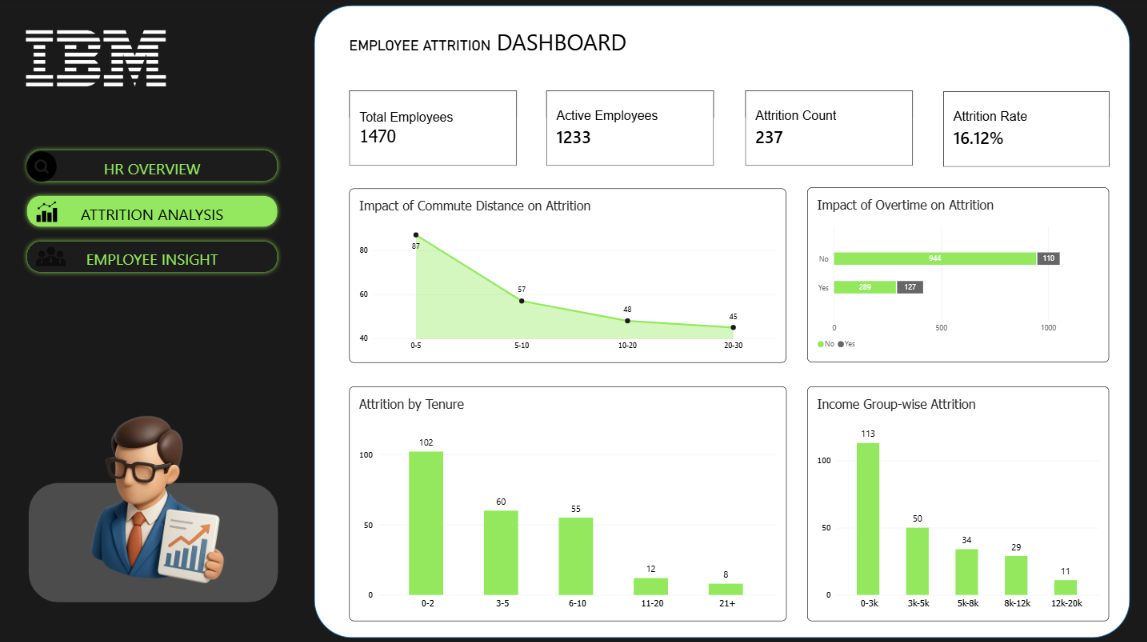

This screenshot's page, from the dashboard's own definition file:
{"tool":"powerbi","page":{"name":"ATTRITION ANALYSIS","canvas":[1920,1080],"ordinal":1},"visuals":[{"type":"shape","box":[526,12,1362,1056],"z":0},{"type":"textbox","box":[584,46,690,310],"z":1000},{"type":"cardVisual","title":"TOTAL EMPLOYEE","fields":{"Data":["HR_Employee_Attrition_Final.Total Employees"]},"box":[584,154,280,126],"z":2000},{"type":"cardVisual","fields":{"Data":["HR_Employee_Attrition_Final.Active Employees"]},"box":[914,154,280,126],"z":3000},{"type":"cardVisual","fields":{"Data":["HR_Employee_Attrition_Final.Attrition Count"]},"box":[1246,154,280,126],"z":4000},{"type":"cardVisual","fields":{"Data":["HR_Employee_Attrition_Final.Attrition Rate"]},"box":[1576,156,278,126],"z":5000},{"type":"barChart","title":"Impact of Overtime on Attrition","fields":{"Category":["HR_Employee_Attrition_Final.OverTime"],"Y":["HR_Employee_Attrition_Final.Employee Count"],"Series":["HR_Employee_Attrition_Final.Attrition"]},"box":[1350,316,504,292],"z":7000},{"type":"clusteredColumnChart","title":"Attrition by Tenure","fields":{"Category":["HR_Employee_Attrition_Final.Tenure_Group"],"Y":["HR_Employee_Attrition_Final.Attrition Count"]},"box":[584,648,730,392],"z":8000},{"type":"clusteredColumnChart","title":"Income Group-wise Attrition","fields":{"Category":["HR_Employee_Attrition_Final.Income_Group"],"Y":["HR_Employee_Attrition_Final.Attrition Count"]},"box":[1350,648,504,392],"z":9000},{"type":"lineChart","title":"Impact of Commute Distance on Attrition","fields":{"Category":["HR_Employee_Attrition_Final.Distance_Group"],"Y":["HR_Employee_Attrition_Final.Attrition Count"]},"box":[584.5,316.7,729.3,291.4],"z":10000},{"type":"image","box":[0,0,322,200],"z":11000},{"type":"pageNavigator","box":[38,246.1,434.3,220.8],"z":12000},{"type":"image","box":[38,255.2,65.1,50.7],"z":13000},{"type":"image","box":[36.2,363.7,99.5,133.9],"z":14000},{"type":"image","box":[54.3,316.7,48.9,77.8],"z":15000},{"type":"shape","box":[48.9,808.9,418,200.9],"z":16000},{"type":"image","box":[101.9,669.6,305.8,338.4],"z":16001}]}

Visuals, with their boxes in screenshot pixels (x1, y1, x2, y2), scaled from the page's 1920x1080 canvas onto the 1147x642 screenshot:
shape: 314:7:1128:635
textbox: 349:27:761:212
"TOTAL EMPLOYEE" cardVisual: 349:92:516:166
cardVisual - HR_Employee_Attrition_Final.Active Employees: 546:92:713:166
cardVisual - HR_Employee_Attrition_Final.Attrition Count: 744:92:912:166
cardVisual - HR_Employee_Attrition_Final.Attrition Rate: 941:93:1108:168
"Impact of Overtime on Attrition" barChart: 806:188:1108:361
"Attrition by Tenure" clusteredColumnChart: 349:385:785:618
"Income Group-wise Attrition" clusteredColumnChart: 806:385:1108:618
"Impact of Commute Distance on Attrition" lineChart: 349:188:785:361
image: 0:0:192:119
pageNavigator: 23:146:282:278
image: 23:152:62:182
image: 22:216:81:296
image: 32:188:62:235
shape: 29:481:279:600
image: 61:398:244:599
